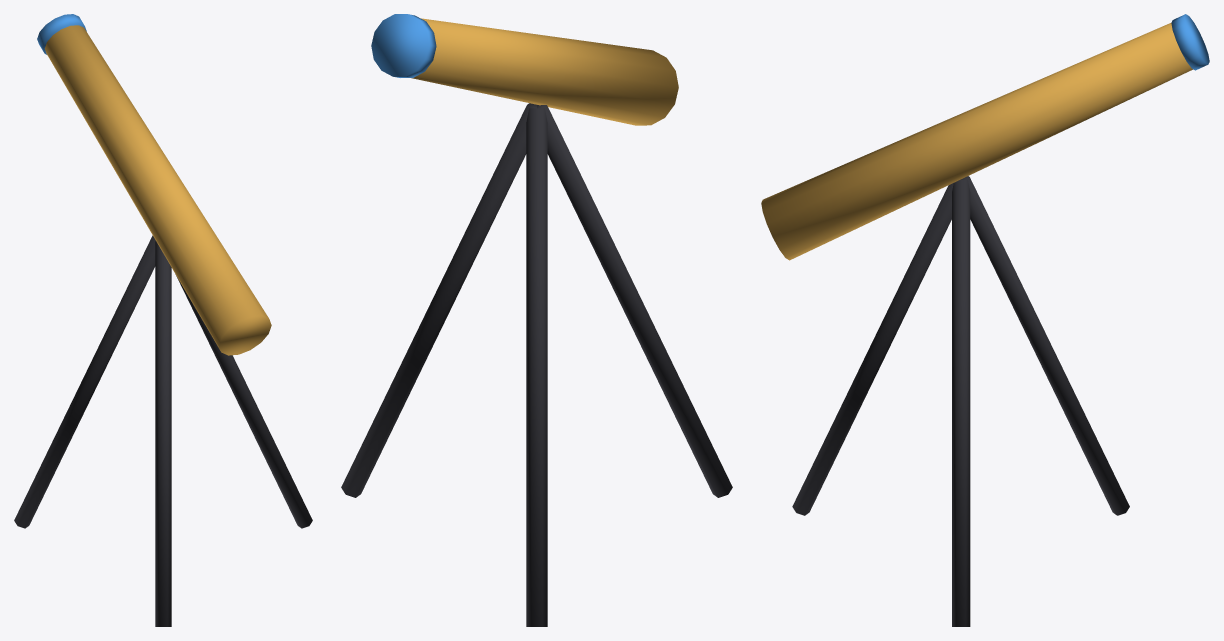
File: telescope.glb
3 renders of one model, left to right at view 1: azimuth 30°, elevation 25°; view 2: azimuth 150°, elevation 25°; view 3: azimuth 270°, elevation 25°, orthographic. The views are drawn at different scales.
Parts seen in each view (by area): view 1: Telescope; view 2: Telescope; view 3: Telescope.
Part boxes in pixels (x1,y1,x2,y2): Telescope: [14, 14, 312, 626]; Telescope: [341, 14, 732, 626]; Telescope: [761, 14, 1209, 626].
Bounding box in the file's own units: 0.7914 × 1.59 × 1.21.
